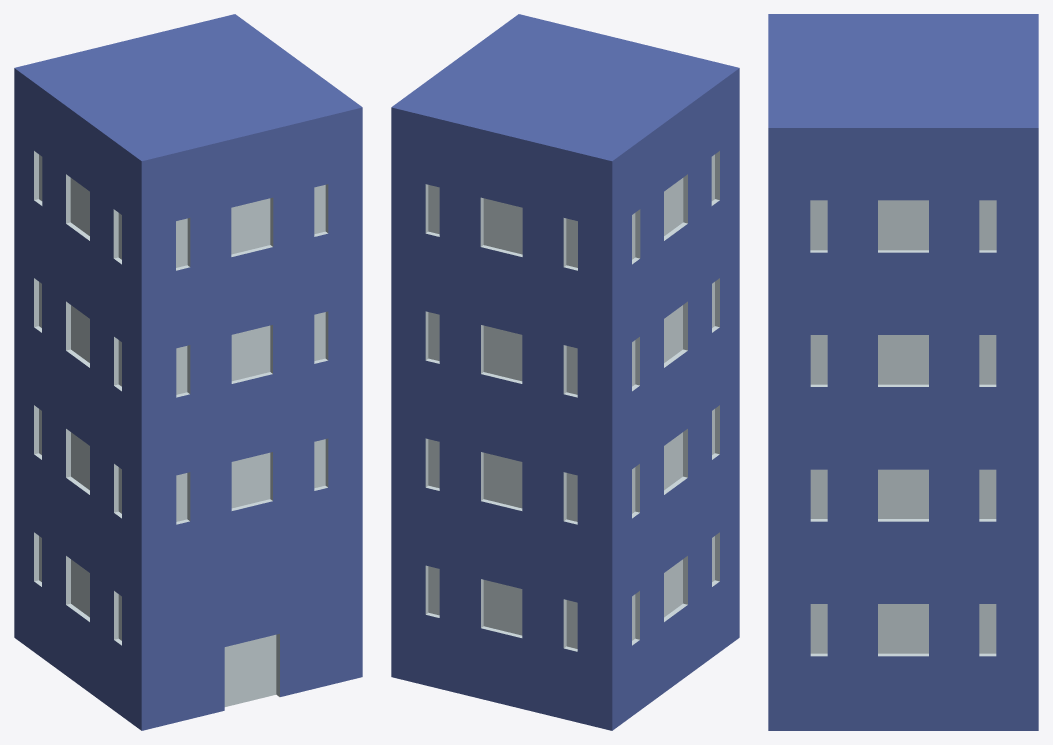
File: BrickBuildingBlue.fbx
3 renders of one model, left to right at view 1: azimuth 30°, elevation 25°; view 2: azimuth 150°, elevation 25°; view 3: azimuth 270°, elevation 25°, orthographic. The views are drawn at different scales.
Parts seen in each view (by area): view 1: BrickBuilding; view 2: BrickBuilding; view 3: BrickBuilding.
Part boxes in pixels (x1=…): BrickBuilding: x1=14, y1=14, x2=362, y2=730; BrickBuilding: x1=391, y1=14, x2=739, y2=730; BrickBuilding: x1=768, y1=14, x2=1038, y2=730.
Size of the model in its own units: 1277 by 3145 by 1277.
